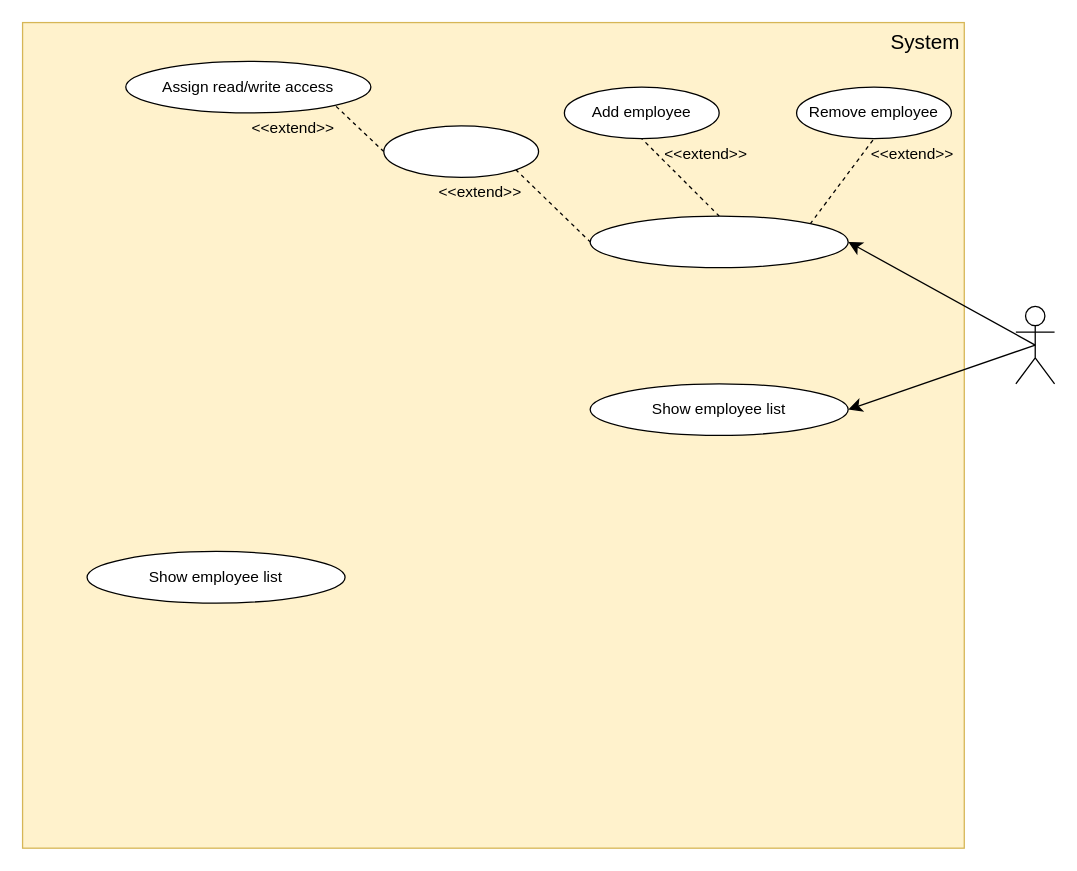
Some shapes in this 1077 by 871 pixel diagram are drawn without their labels. Each missing label, with the centre of its shape:
Edit employee: point (460, 150)
Edit employee list: point (718, 241)
User: point (1035, 344)
